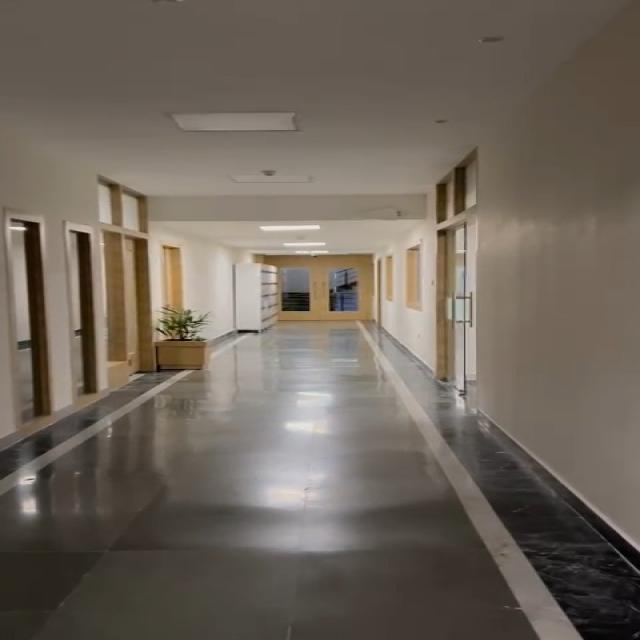door: (0, 128, 134, 406), (432, 159, 498, 402), (259, 240, 396, 326)
floor: (43, 389, 611, 640), (209, 314, 381, 413)
furniture: (150, 307, 210, 369)
